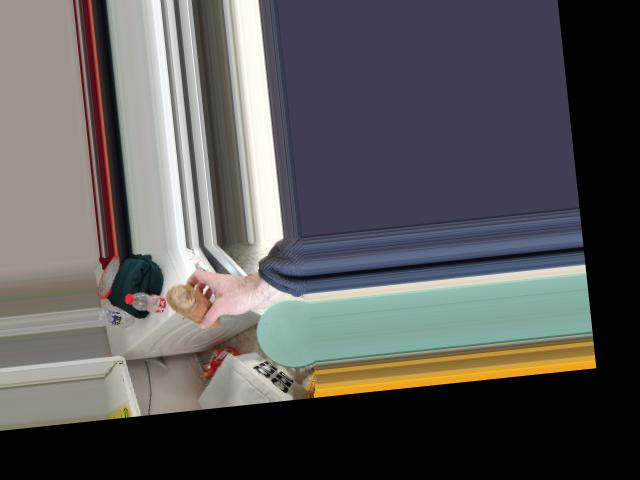sweet_potato: (165, 284, 220, 335)
